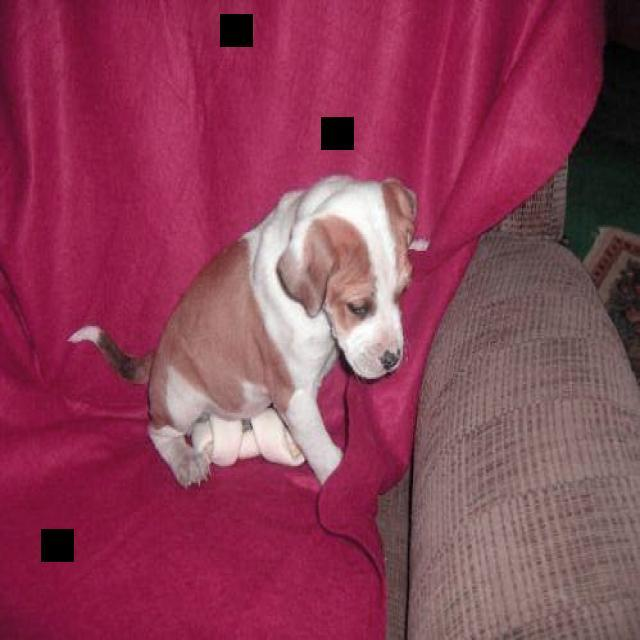puppy-dog: (65, 173, 416, 490)
